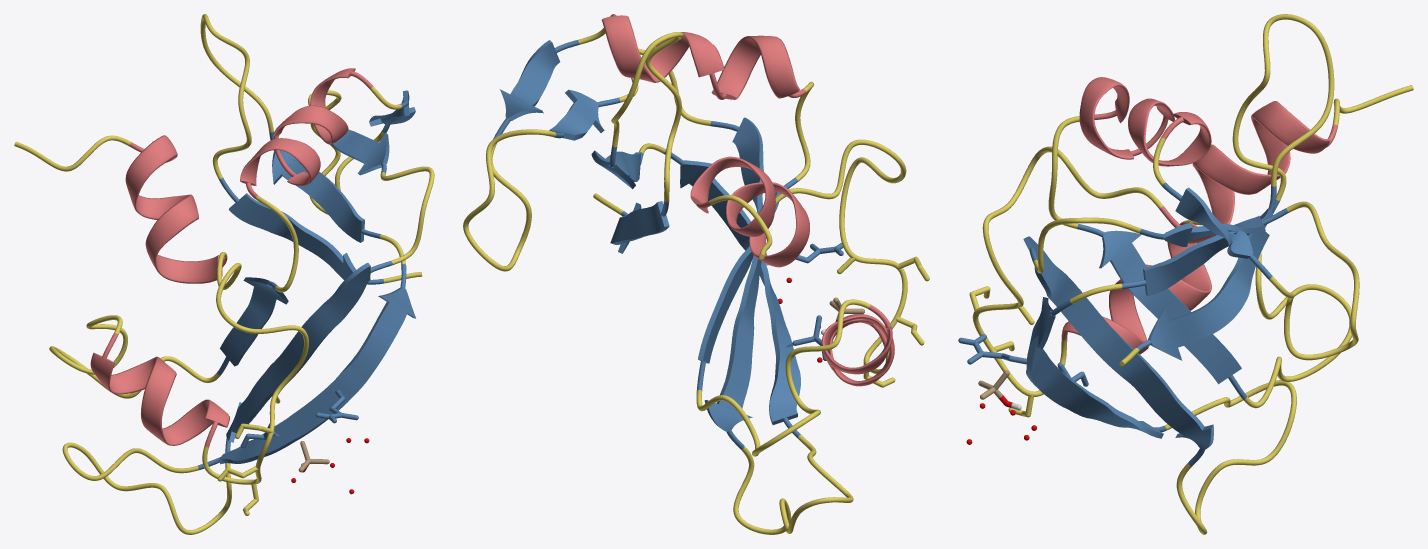
The model's file is my_structure.glb.
3 renders of one model, left to right at view 1: azimuth 30°, elevation 25°; view 2: azimuth 150°, elevation 25°; view 3: azimuth 270°, elevation 25°, orthographic. The views are drawn at different scales.
Visible parts, largest first — view 1: New_Node; view 2: New_Node; view 3: New_Node.
Part boxes in pixels (box(x1,y1,x2,y2)): New_Node: box(14, 14, 434, 534); New_Node: box(463, 14, 929, 534); New_Node: box(958, 14, 1413, 534).
Size of the model in its own units: 1036371 by 1378421 by 1049160.
